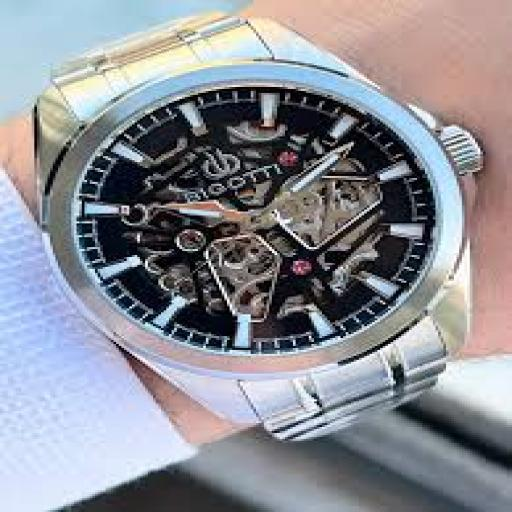KolSaati: (0, 10, 498, 444)
